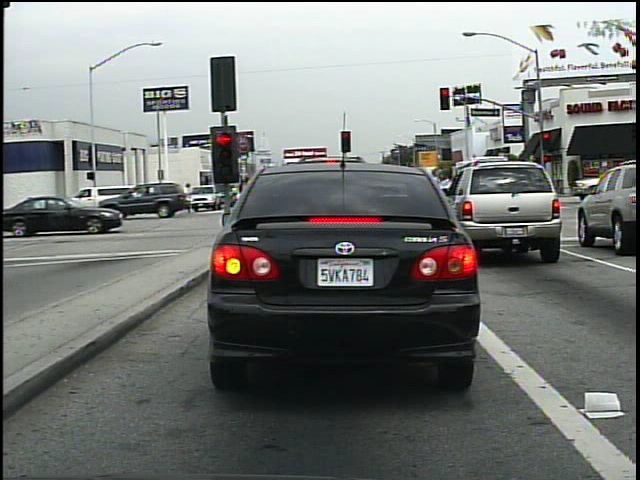person: (174, 177, 197, 216)
